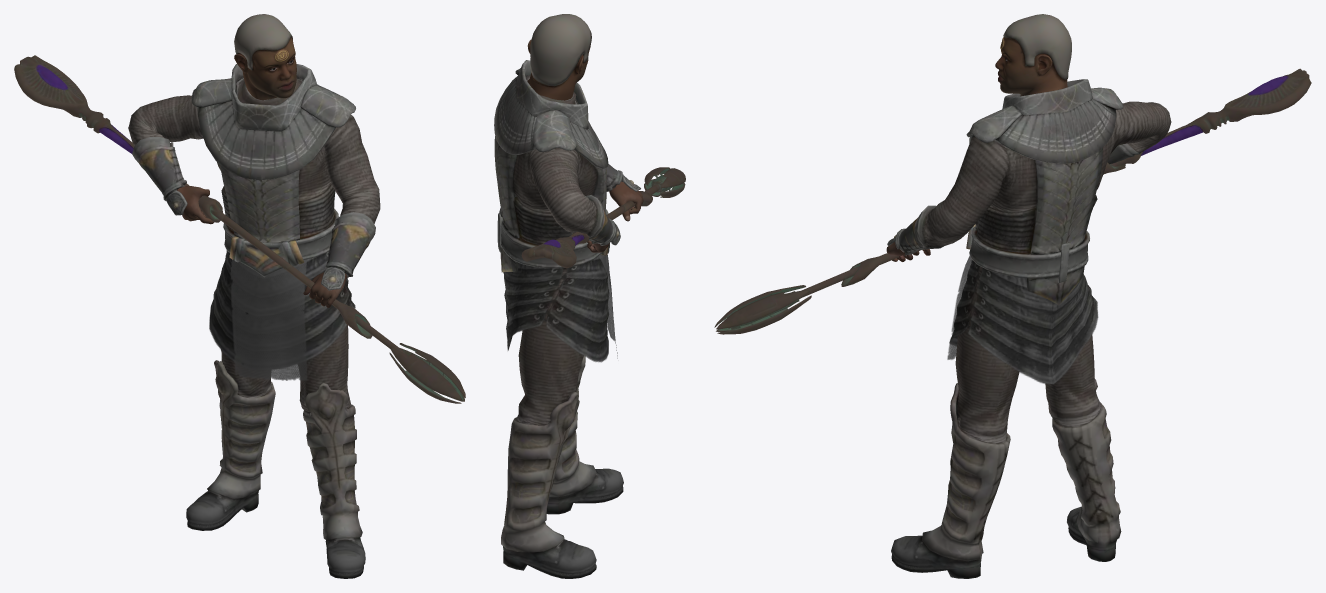
3 views of the same model, side by side, from view 1: azimuth 30°, elevation 25°; view 2: azimuth 150°, elevation 25°; view 3: azimuth 270°, elevation 25° (orthographic). The views are drawn at different scales.
Parts seen in each view (by area): view 1: Tealc_Body, Tealc_Skirt, Circle.000, Tealc_Head; view 2: Tealc_Body, Tealc_Skirt, Tealc_Head, Circle.000; view 3: Tealc_Body, Tealc_Skirt, Circle.000, Tealc_Head.
Part boxes in pixels (x1,y1,x2,y2): Tealc_Body: [128, 64, 380, 578]; Tealc_Skirt: [209, 250, 355, 380]; Circle.000: [14, 55, 465, 403]; Tealc_Head: [234, 14, 296, 100]; Tealc_Body: [494, 60, 643, 578]; Tealc_Skirt: [503, 253, 617, 362]; Tealc_Head: [527, 14, 591, 100]; Circle.000: [521, 167, 685, 268]; Tealc_Body: [886, 79, 1171, 578]; Tealc_Skirt: [947, 255, 1098, 384]; Circle.000: [714, 68, 1311, 334]; Tealc_Head: [995, 14, 1071, 95].
Size of the model in its own units: 0.7932 by 1.94 by 1.96.
Materials: 6 (5 with a texture image).
